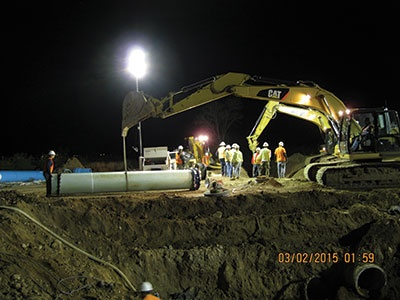white: (47, 149, 56, 160), (277, 140, 284, 148), (262, 142, 269, 149), (177, 144, 183, 152), (234, 144, 240, 151), (219, 141, 225, 148), (225, 144, 230, 150)
